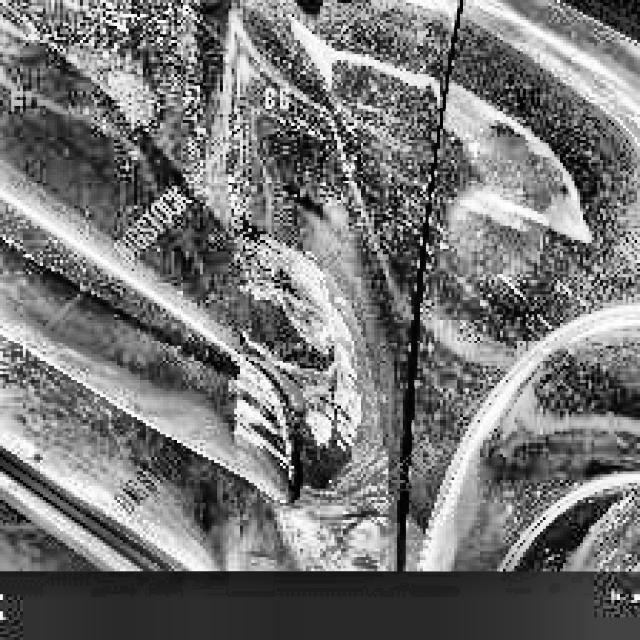door_dent: (229, 22, 393, 484)
door_scratch: (229, 232, 365, 472)
